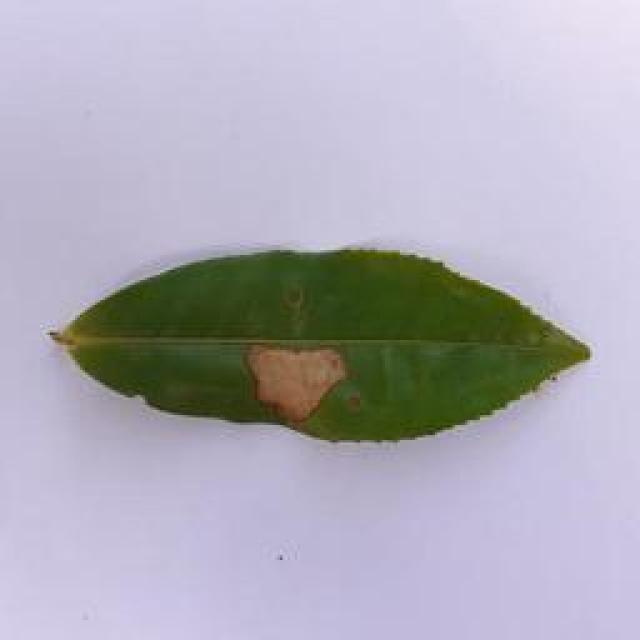Gray Blight: (44, 240, 594, 450)
